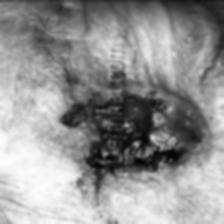Potentially Malignant Skin Tumors: (57, 92, 197, 172)
